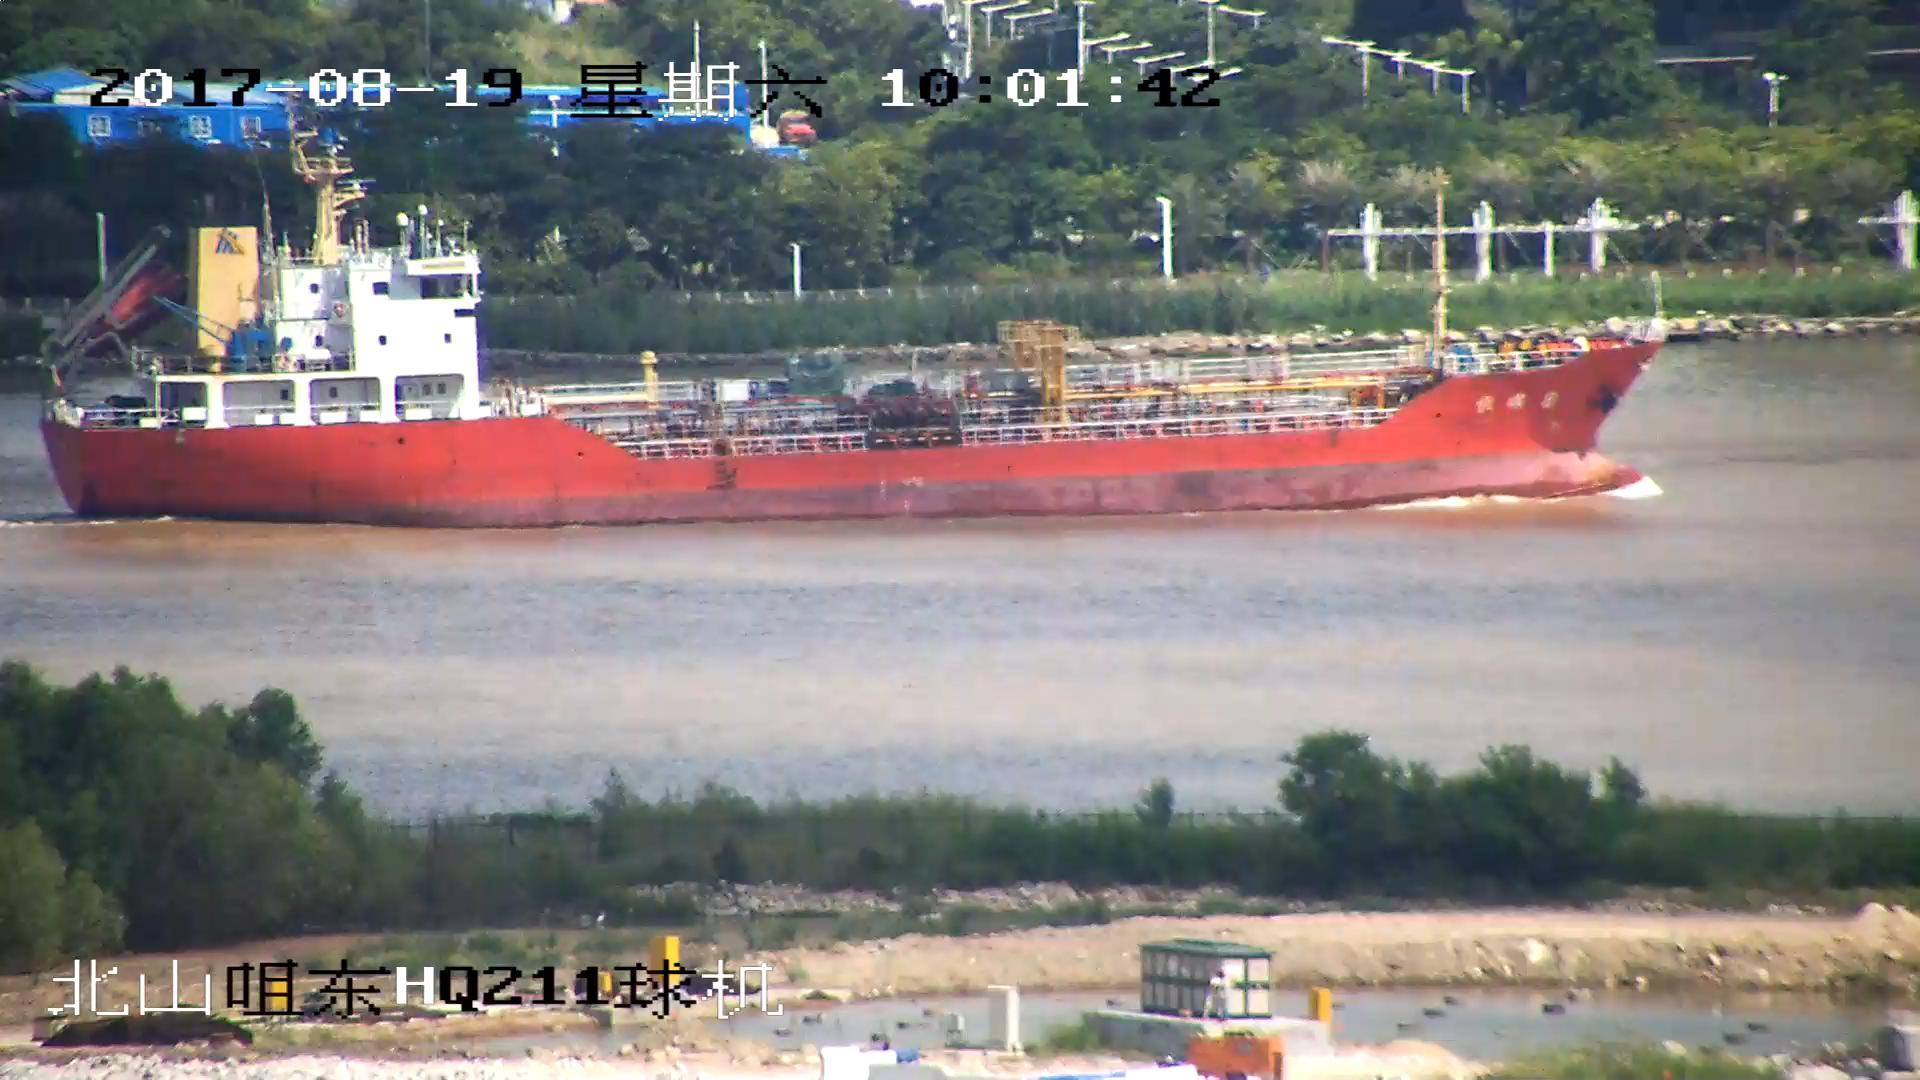Ship: (41, 175, 1662, 527)
